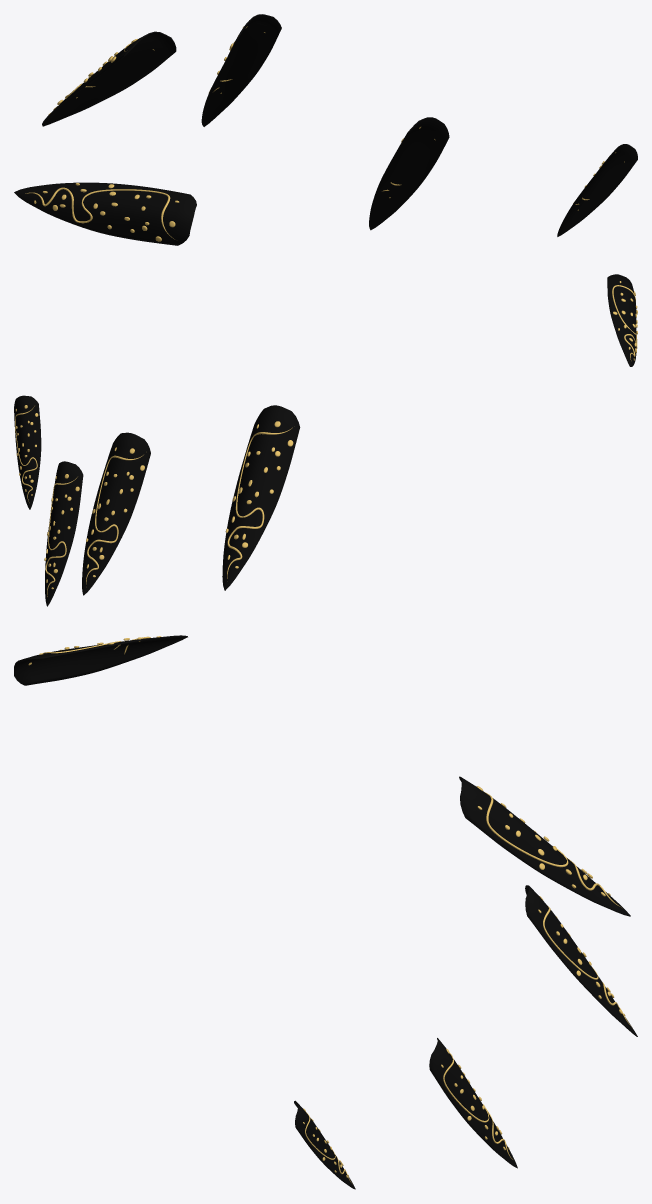
The model's file is NailIDK_4.glb.
3 views of the same model, one above another, from view 1: azimuth 30°, elevation 25°; view 2: azimuth 150°, elevation 25°; view 3: azimuth 270°, elevation 25° (orthographic). The views are drawn at different scales.
Parts seen in each view (by area): view 1: StillettoNail_nail_0.001, StillettoNail_nail_0.002, StillettoNail_nail_0.004, StillettoNail_nail_0.003, StillettoNail_nail_0.005; view 2: StillettoNail_nail_0.002, StillettoNail_nail_0.003, StillettoNail_nail_0.004, StillettoNail_nail_0.005, StillettoNail_nail_0.001; view 3: StillettoNail_nail_0.002, StillettoNail_nail_0.001, StillettoNail_nail_0.003, StillettoNail_nail_0.004, StillettoNail_nail_0.005.
Boxes of the visible parts, <box> form: StillettoNail_nail_0.001: <box>14,182,196,245</box>; StillettoNail_nail_0.002: <box>42,31,176,126</box>; StillettoNail_nail_0.004: <box>369,117,449,230</box>; StillettoNail_nail_0.003: <box>201,14,281,126</box>; StillettoNail_nail_0.005: <box>557,144,637,236</box>; StillettoNail_nail_0.002: <box>222,405,300,590</box>; StillettoNail_nail_0.003: <box>82,432,150,595</box>; StillettoNail_nail_0.004: <box>44,461,83,606</box>; StillettoNail_nail_0.005: <box>14,395,41,509</box>; StillettoNail_nail_0.001: <box>607,274,637,366</box>; StillettoNail_nail_0.002: <box>459,776,630,916</box>; StillettoNail_nail_0.001: <box>14,635,187,685</box>; StillettoNail_nail_0.003: <box>525,885,637,1036</box>; StillettoNail_nail_0.004: <box>429,1038,517,1168</box>; StillettoNail_nail_0.005: <box>294,1100,355,1189</box>.
Bounding box in the file's own units: 12.26 × 5.48 × 10.03.
